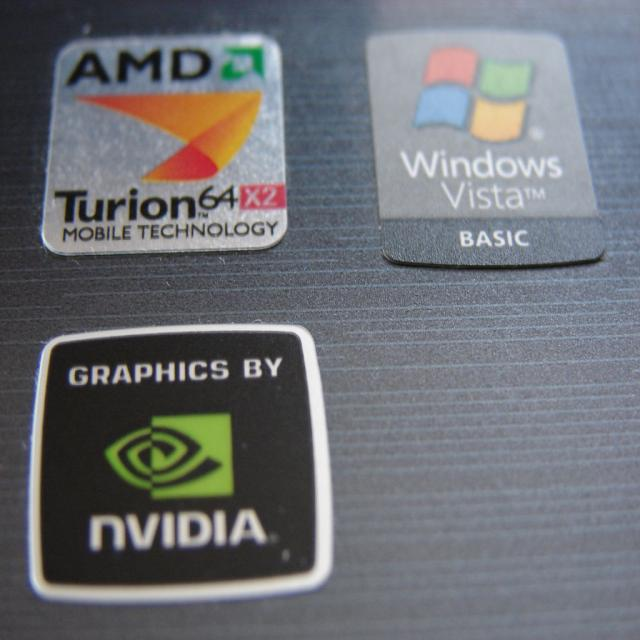nvidia: (104, 416, 235, 499)
